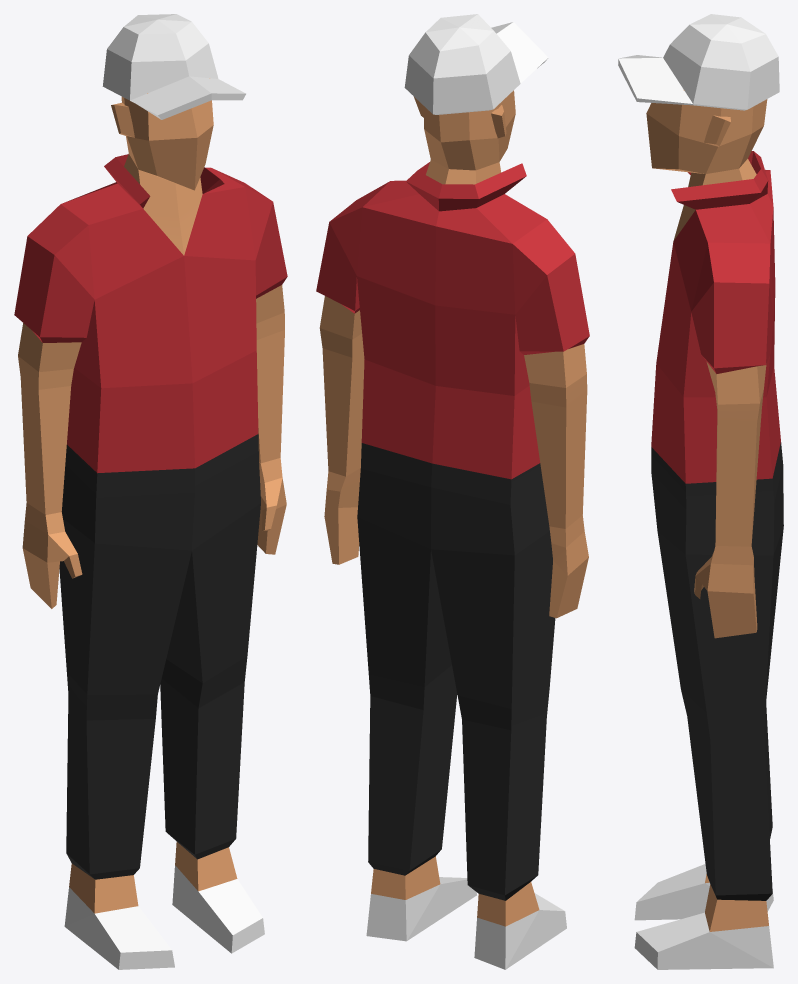
File: people_man-golf.fbx
3 renders of one model, left to right at view 1: azimuth 30°, elevation 25°; view 2: azimuth 150°, elevation 25°; view 3: azimuth 270°, elevation 25°, orthographic.
Parts seen in each view (by area): view 1: people_man_golf; view 2: people_man_golf; view 3: people_man_golf.
Boxes of the visible parts, x1,y1,x2,y2 form: people_man_golf: (14, 14, 287, 969); people_man_golf: (316, 14, 589, 969); people_man_golf: (618, 14, 783, 969).
Bounding box in the file's own units: 57.16 × 200 × 33.
